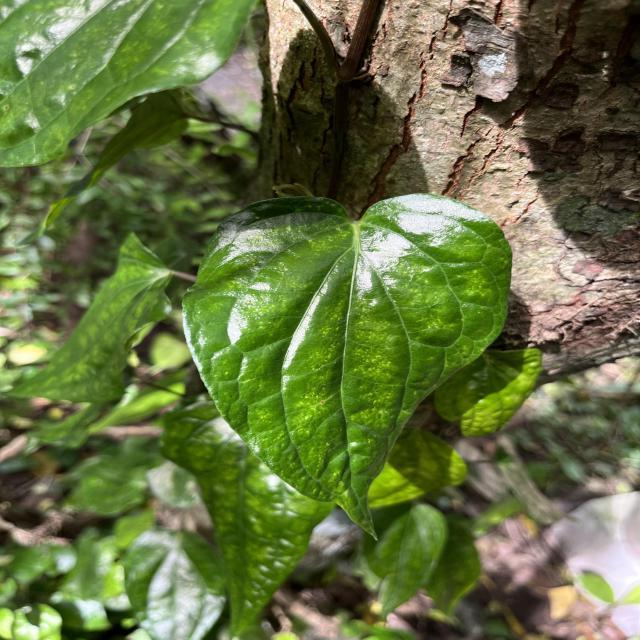Piper betle: (179, 190, 515, 545)
